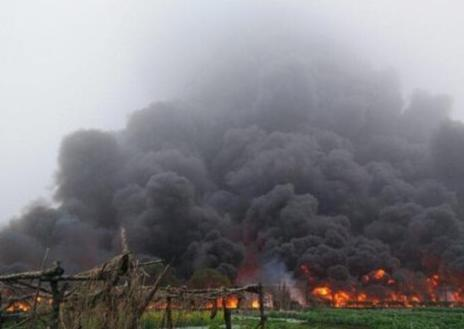fire: (135, 267, 464, 307)
smoke: (68, 73, 460, 256)
